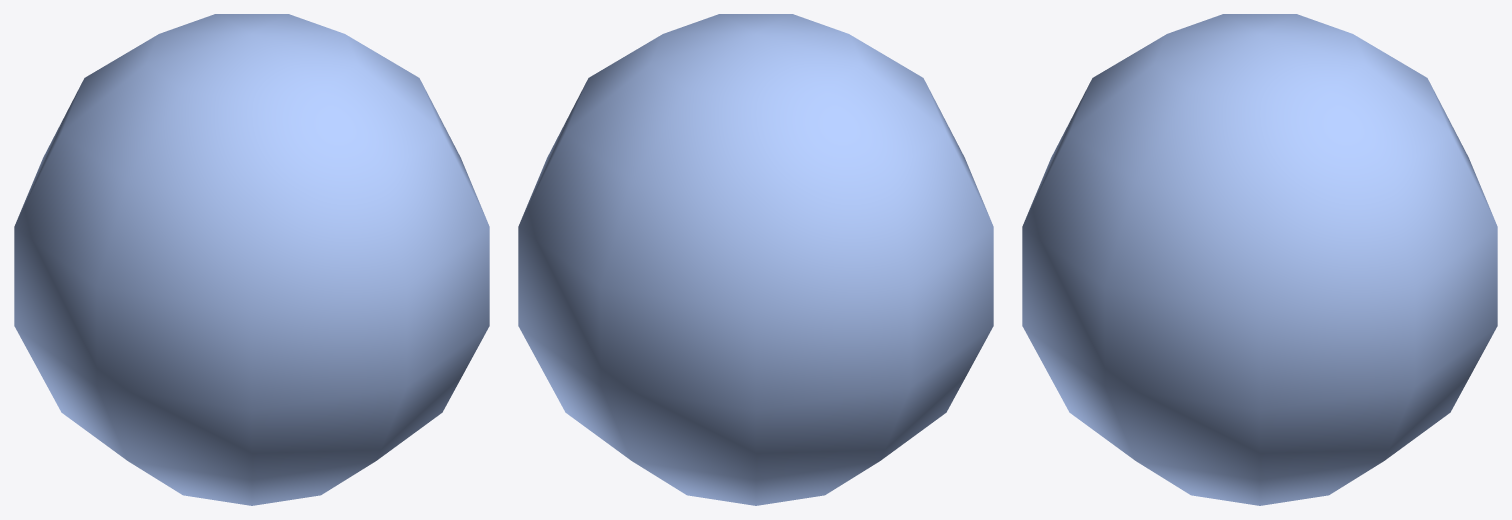
The model's file is facetbug_stage1.obj.
The picture shows the model from 3 angles, left to right: view 1: azimuth 30°, elevation 25°; view 2: azimuth 150°, elevation 25°; view 3: azimuth 270°, elevation 25°; orthographic projection.
Bounding box in the file's own units: 1.23 × 1.3 × 1.25.
